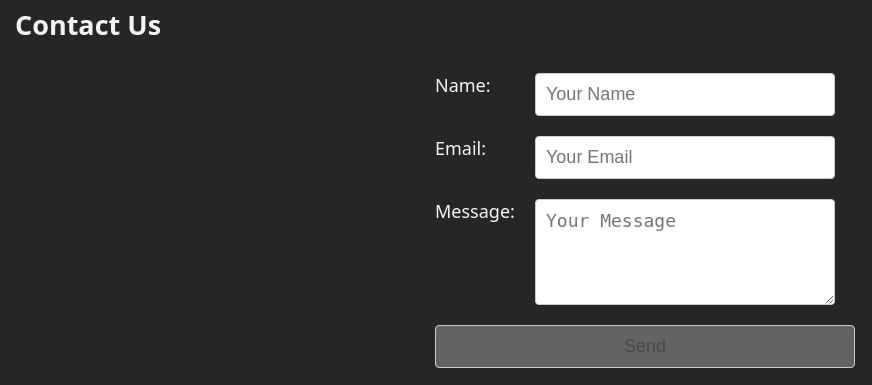
ContactUs › enables button when all fields are filled
Type "John" into the field labelled "Name:".
click(685, 94); type("John")  # box [535,73,835,116]
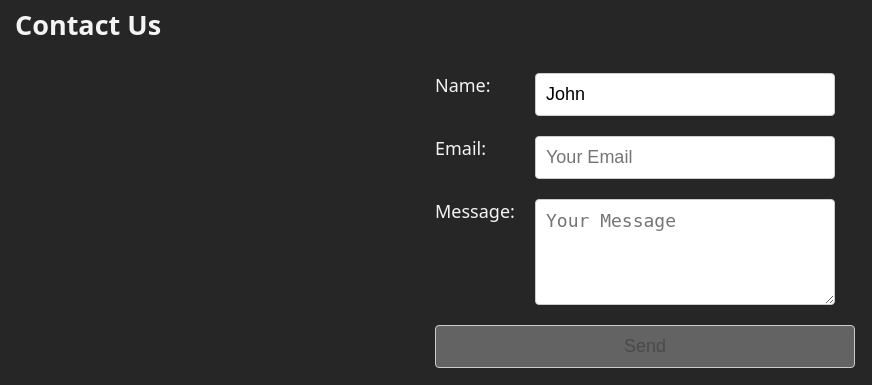
Type "John@abc.com" into the field labelled "Email:".
click(685, 158); type("John@abc.com")  # box [535,136,835,179]
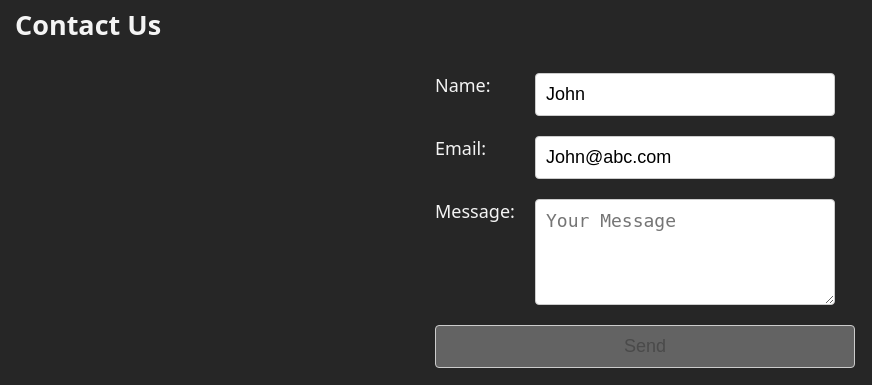
Type "Hello!" into the text box labelled "Message:".
click(685, 252); type("Hello!")  # box [535,199,835,305]
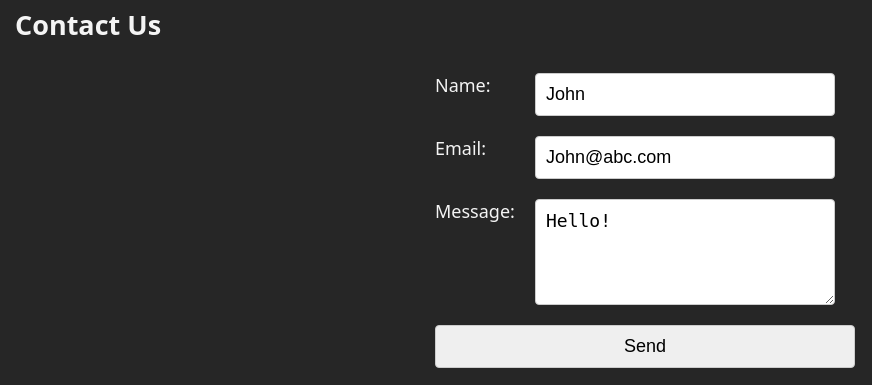
Check: the button "Send" is enabled, box [435,325,855,368]
